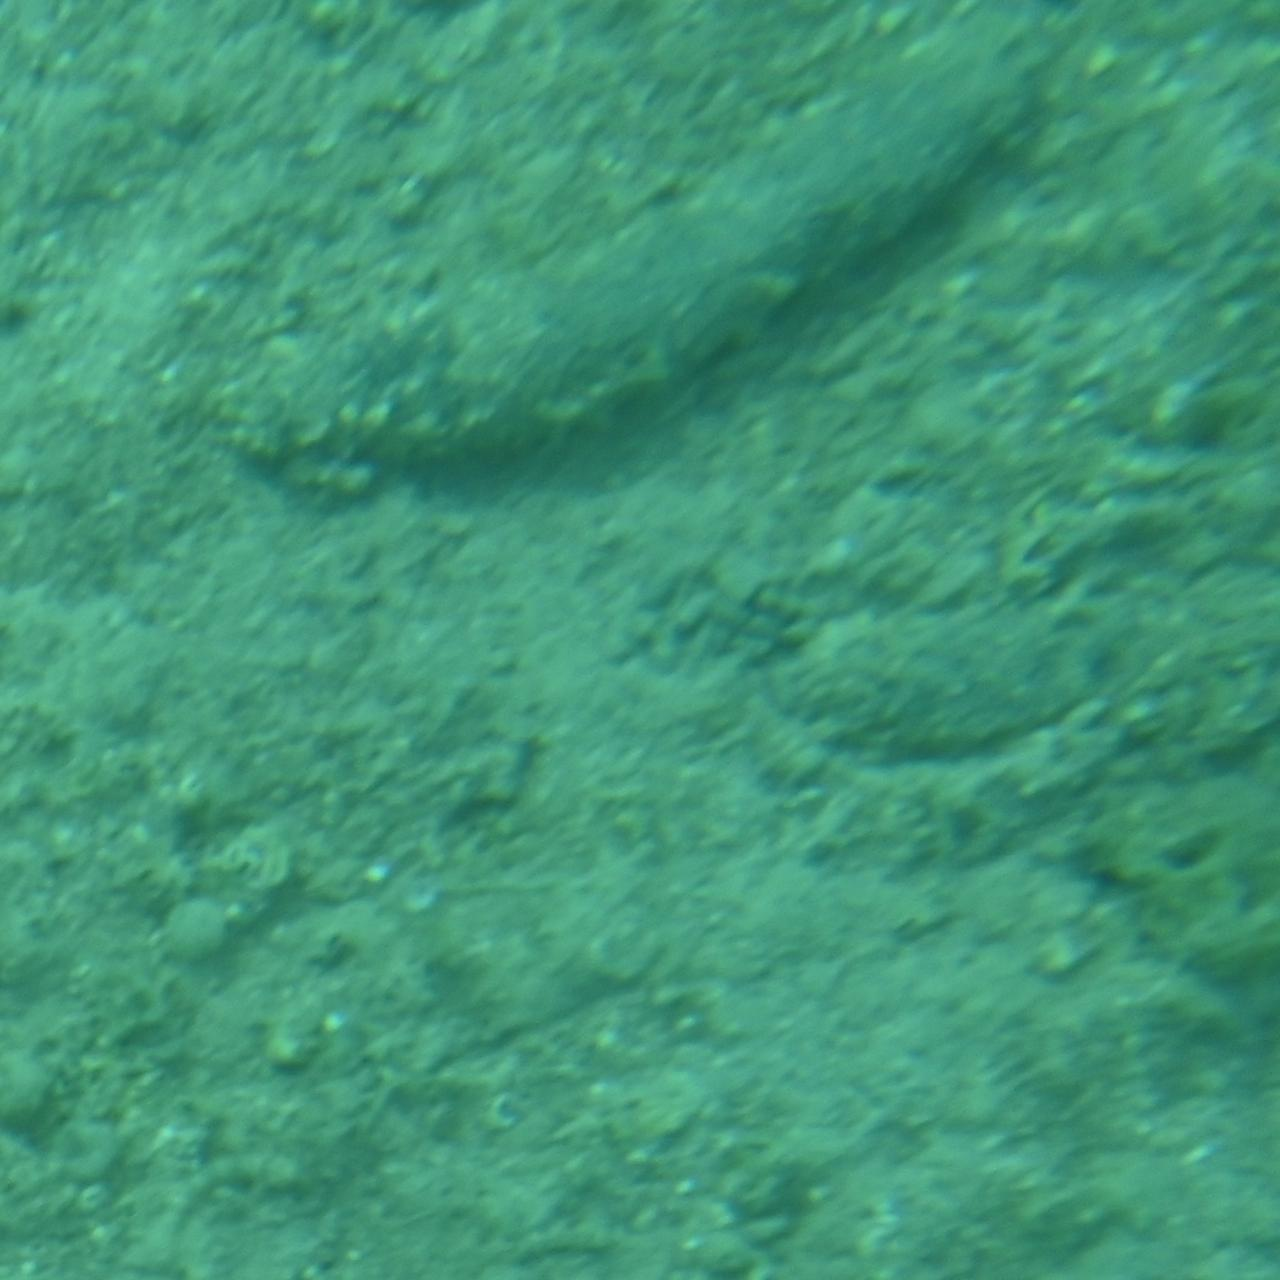Holothuria tubulosa: (244, 0, 1036, 515)
